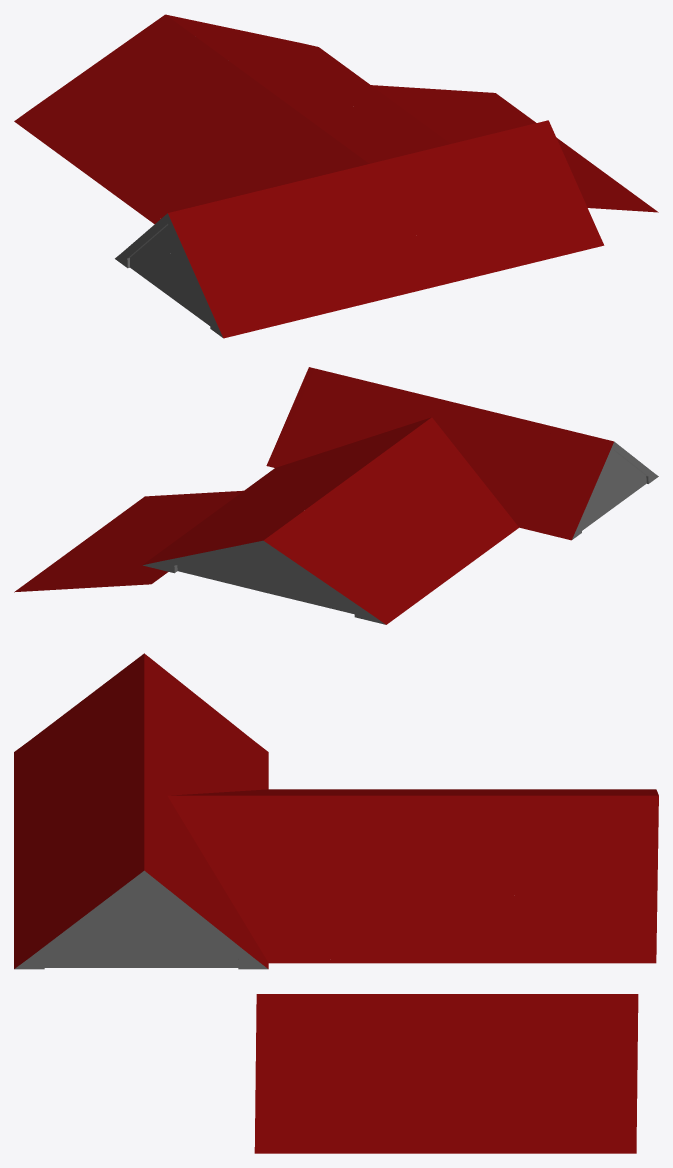
File: ToitMaison_01.fbx
3 renders of one model, top to bottom at view 1: azimuth 30°, elevation 25°; view 2: azimuth 150°, elevation 25°; view 3: azimuth 270°, elevation 25°, orthographic. The views are drawn at different scales.
Visible parts, largest first — view 1: ToitMaison_01; view 2: ToitMaison_01; view 3: ToitMaison_01.
Boxes of the visible parts, x1=… form: ToitMaison_01: x1=14, y1=14, x2=658, y2=338; ToitMaison_01: x1=14, y1=367, x2=658, y2=624; ToitMaison_01: x1=14, y1=653, x2=658, y2=1153.
Bounding box in the file's own units: 2393 × 702 × 2124.
